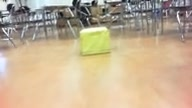cube: (79, 27, 110, 56)
